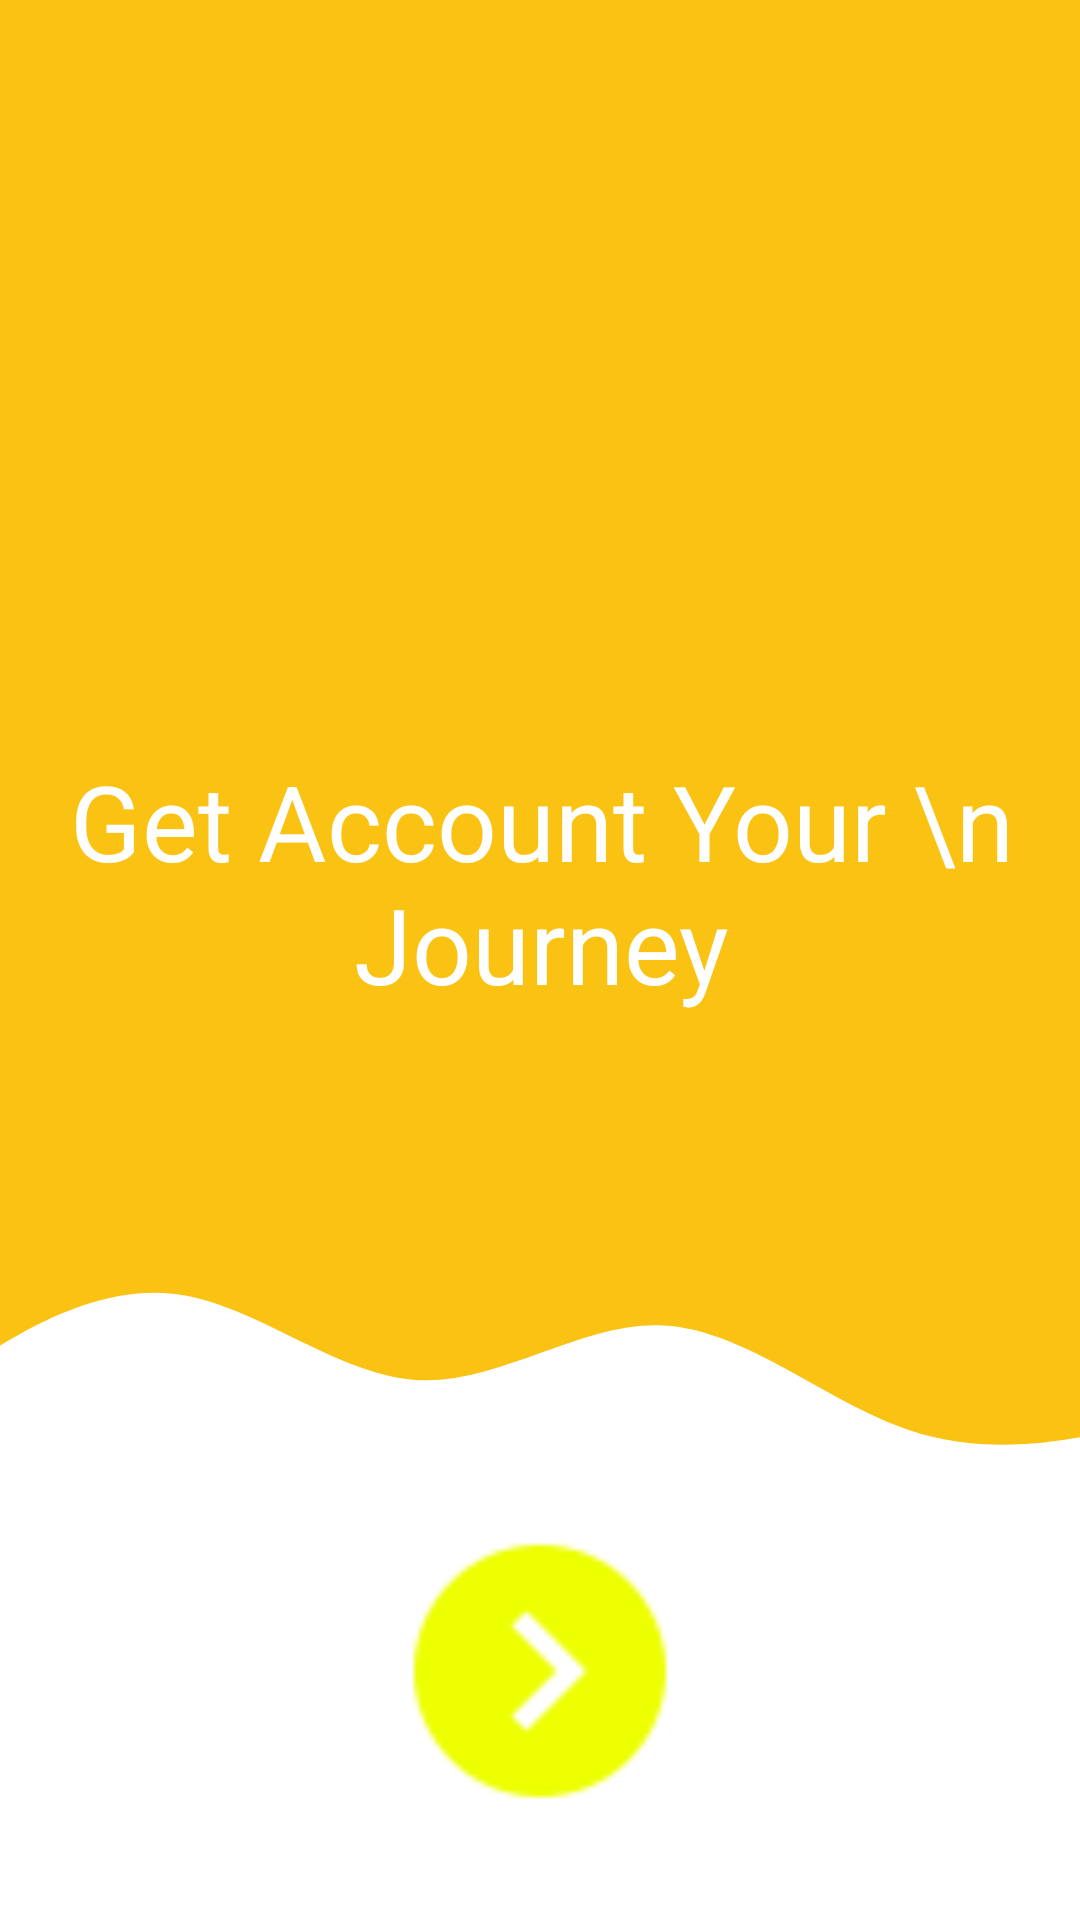

Where to tap for icons on this 1080px×1920px app screen, as [x,y]:
next: [540,1671]
